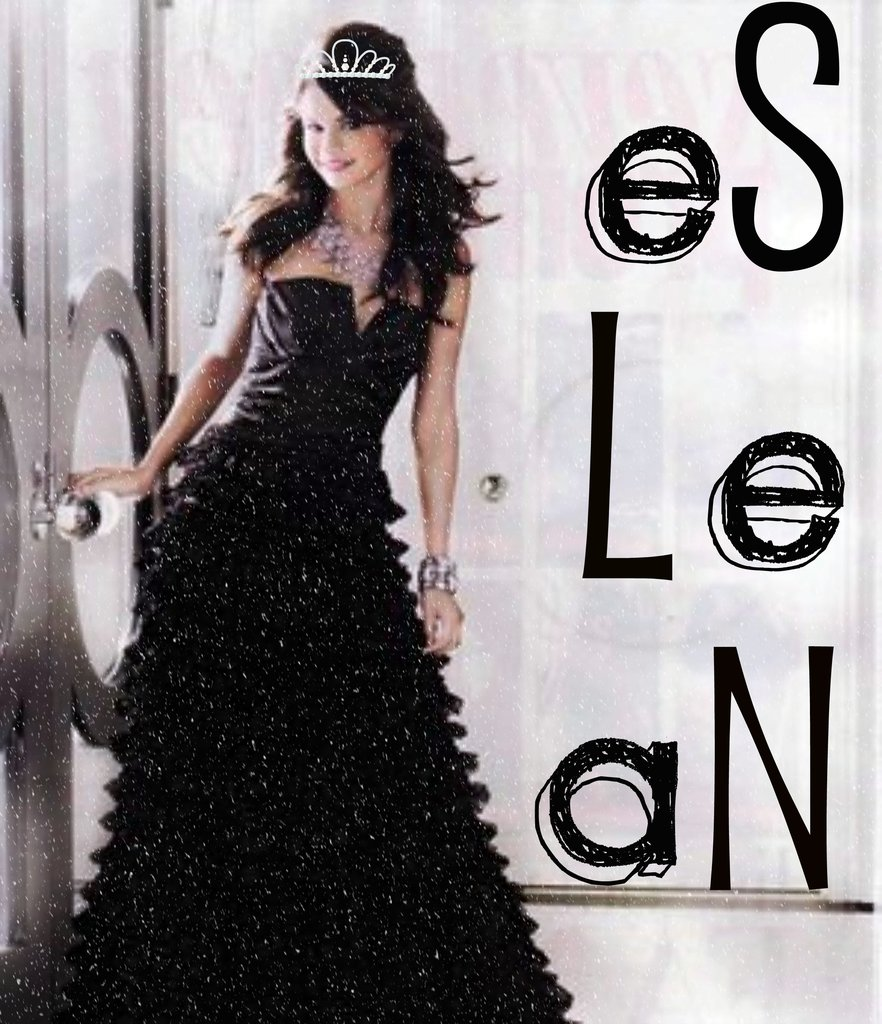face: (299, 70, 387, 191)
